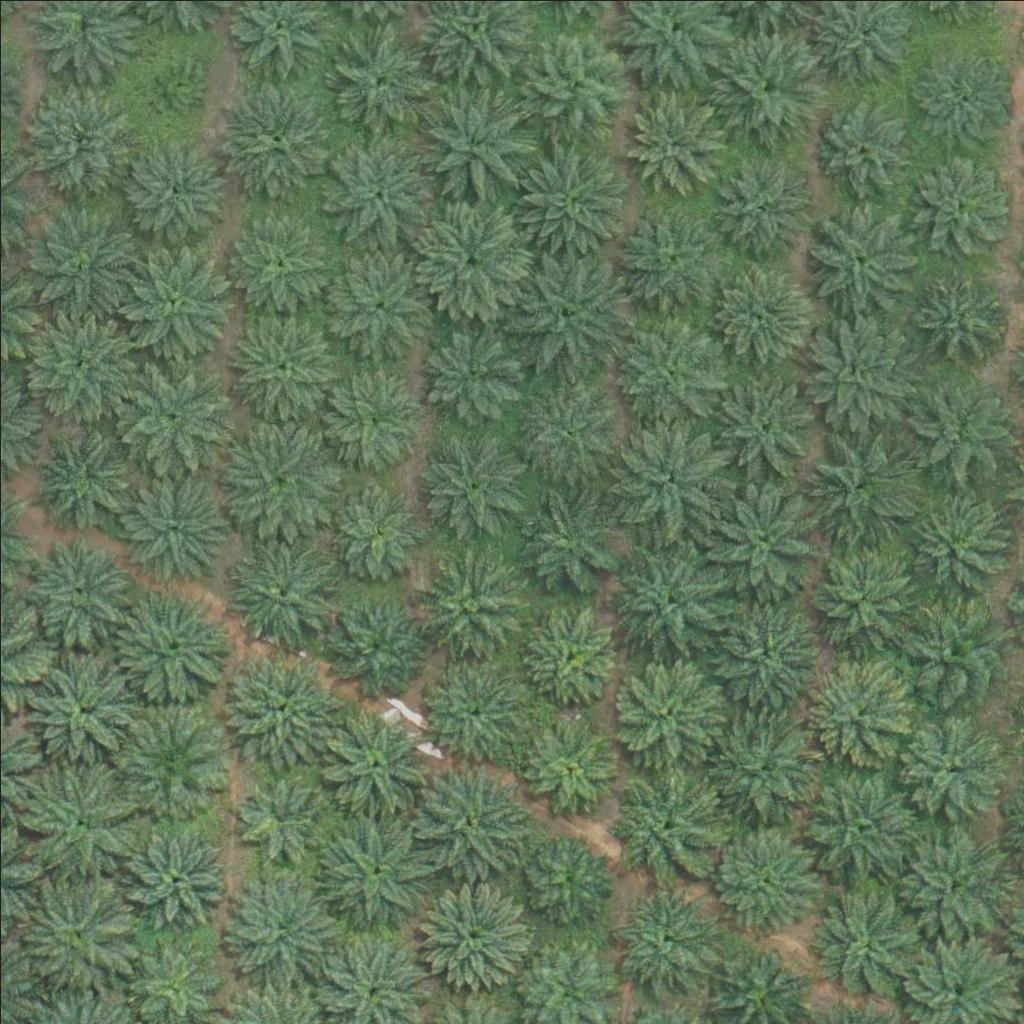Kelapa_Sawit: (812, 886, 925, 1000), (705, 820, 818, 934), (607, 767, 720, 881), (610, 656, 723, 770), (21, 85, 134, 199), (115, 244, 228, 358), (509, 484, 622, 598), (520, 28, 633, 142), (897, 590, 1010, 703), (709, 708, 822, 821), (413, 875, 526, 988), (317, 816, 430, 929), (316, 711, 429, 824), (222, 651, 335, 764), (112, 592, 225, 705), (21, 876, 134, 989), (17, 305, 130, 418), (23, 210, 136, 323), (116, 470, 229, 583), (112, 354, 225, 467), (225, 535, 338, 648), (220, 421, 333, 534), (413, 202, 526, 315), (416, 90, 529, 203), (512, 372, 625, 485), (507, 253, 620, 366), (514, 141, 627, 254), (612, 541, 725, 654), (610, 419, 723, 532), (805, 317, 918, 430), (805, 201, 918, 314), (807, 89, 920, 202), (416, 549, 528, 663), (220, 306, 332, 420), (417, 425, 529, 539), (897, 828, 1009, 941), (896, 710, 1008, 823), (801, 769, 913, 882), (800, 654, 912, 767), (703, 601, 815, 714), (416, 762, 528, 875), (418, 652, 530, 765), (226, 869, 338, 982), (114, 706, 226, 819), (20, 764, 132, 877), (22, 658, 134, 771), (18, 534, 130, 647), (218, 81, 330, 194), (319, 244, 431, 357), (315, 134, 427, 247), (610, 313, 722, 426), (612, 200, 724, 313), (705, 482, 817, 595), (708, 371, 820, 484), (805, 538, 917, 651), (802, 423, 914, 536), (715, 30, 827, 143), (321, 25, 433, 138), (511, 831, 611, 932), (327, 596, 427, 697), (227, 763, 327, 864), (127, 830, 227, 931), (25, 429, 125, 530), (621, 93, 721, 194), (713, 261, 813, 362), (708, 155, 808, 256), (910, 491, 1010, 592), (913, 378, 1013, 479), (911, 265, 1011, 366), (609, 892, 709, 992), (513, 717, 613, 817), (517, 605, 617, 705), (120, 141, 220, 241), (227, 210, 327, 310), (326, 478, 426, 578), (321, 364, 421, 464), (418, 320, 518, 420), (910, 150, 1010, 250), (910, 46, 1010, 146), (137, 53, 199, 116)
